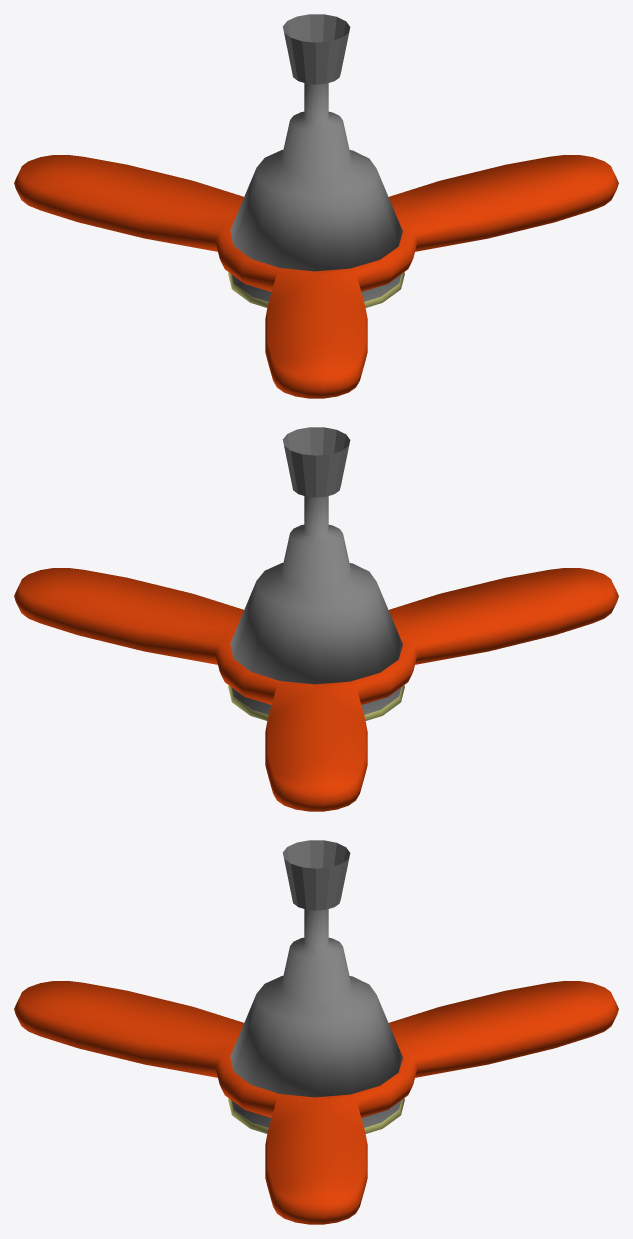
The picture shows the model from 3 angles, top to bottom: view 1: azimuth 30°, elevation 25°; view 2: azimuth 150°, elevation 25°; view 3: azimuth 270°, elevation 25°; orthographic projection.
Parts seen in each view (by area): view 1: Cylinder004; view 2: Cylinder004; view 3: Cylinder004.
Part boxes in pixels (<box>): Cylinder004: <box>14,14,618,398</box>; Cylinder004: <box>14,427,618,811</box>; Cylinder004: <box>14,840,618,1224</box>.
Size of the model in its own units: 43.66 by 23.44 by 49.37.
